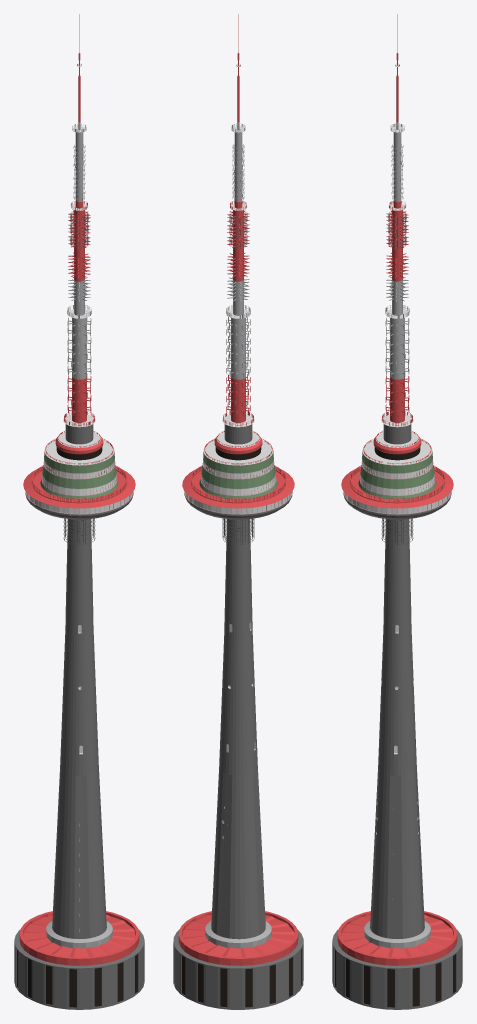
Rendered from TV bokstas.fbx.
3 views of the same model, side by side, from view 1: azimuth 90°, elevation 25°; view 2: azimuth 150°, elevation 25°; view 3: azimuth 270°, elevation 25° (orthographic).
Visible parts, largest first — view 1: tv tower, fence8, antenna4, wireMesh, antenna2.001, antenna5, antenna1; view 2: tv tower, antenna4, wireMesh, fence8, antenna5, antenna1, antenna2.001; view 3: tv tower, antenna4, fence8, wireMesh, antenna5, antenna2.001, antenna1.
Part boxes in pixels (<box>): tv tower: <box>14,14,144,1009</box>; fence8: <box>31,465,127,502</box>; antenna4: <box>67,317,91,378</box>; wireMesh: <box>63,518,95,544</box>; antenna2.001: <box>68,210,90,248</box>; antenna5: <box>67,374,91,416</box>; antenna1: <box>73,144,85,200</box>; tv tower: <box>173,14,303,1009</box>; antenna4: <box>226,317,250,378</box>; wireMesh: <box>222,518,254,544</box>; fence8: <box>190,465,286,502</box>; antenna5: <box>226,374,250,416</box>; antenna1: <box>232,144,244,200</box>; antenna2.001: <box>227,210,249,248</box>; tv tower: <box>332,14,462,1009</box>; antenna4: <box>385,317,409,377</box>; fence8: <box>349,465,445,502</box>; wireMesh: <box>381,518,413,544</box>; antenna5: <box>385,375,409,416</box>; antenna2.001: <box>386,210,408,248</box>; antenna1: <box>391,144,403,200</box>.
Bounding box in the file's own units: 60.85 × 499 × 60.85.
